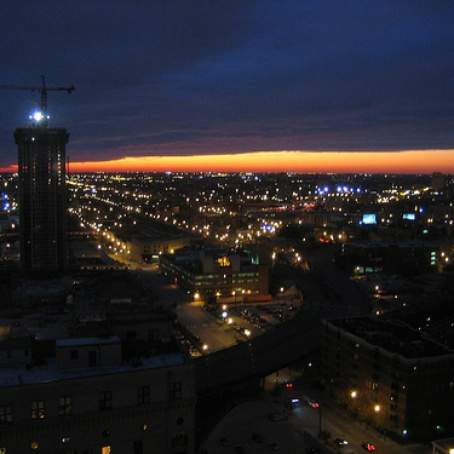building: (1, 319, 202, 454), (313, 306, 437, 445), (14, 120, 71, 283), (158, 250, 265, 299)
crane: (1, 78, 77, 126)
sky: (1, 1, 447, 167)
street: (197, 242, 358, 403)
